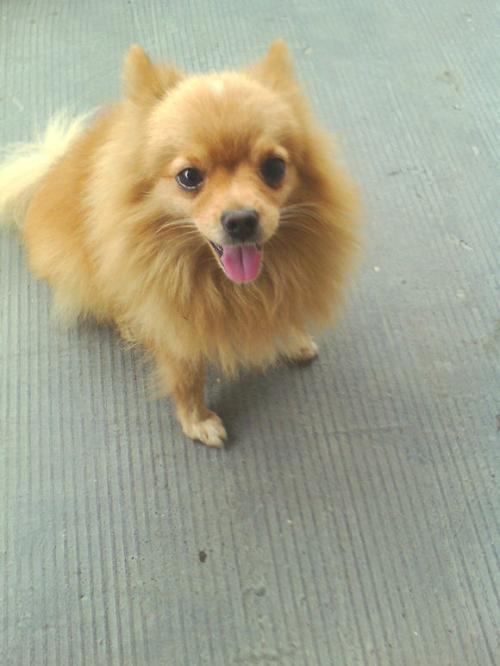dog: (8, 36, 359, 449)
